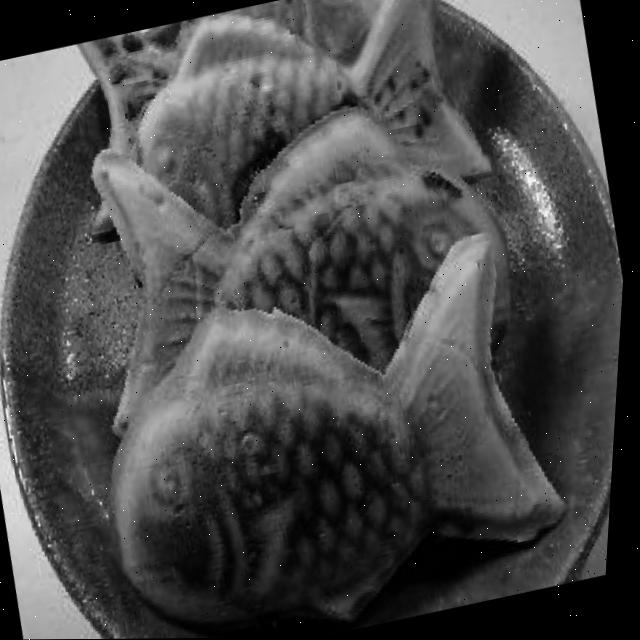熟制海鲜: (18, 0, 612, 640)
